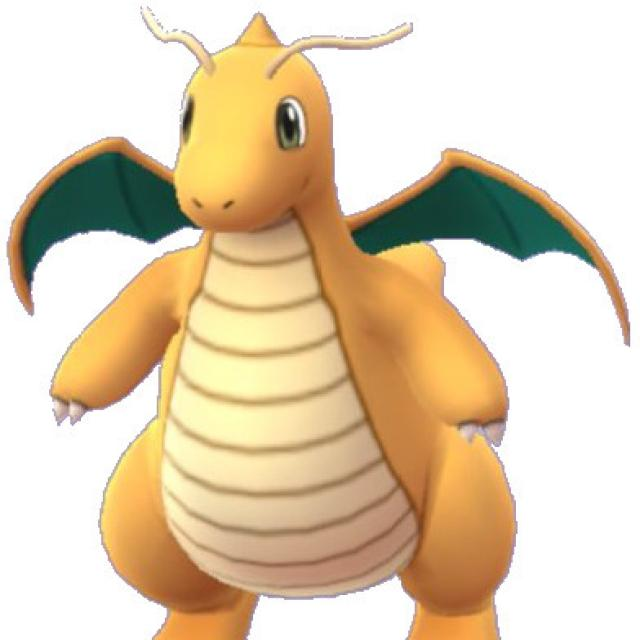Dragonite: (44, 45, 560, 618)
